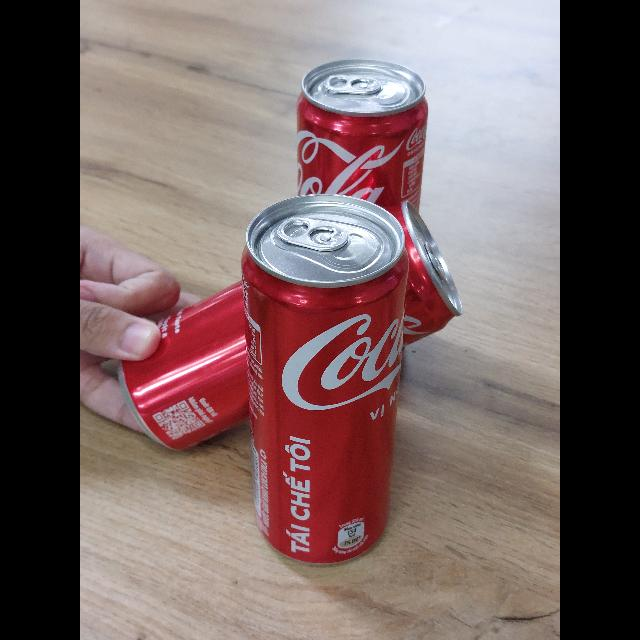coca_cola: (116, 201, 463, 452), (240, 194, 409, 568), (296, 59, 429, 225)
